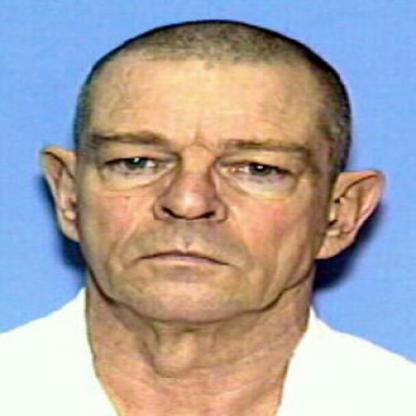face: (75, 21, 343, 328)
